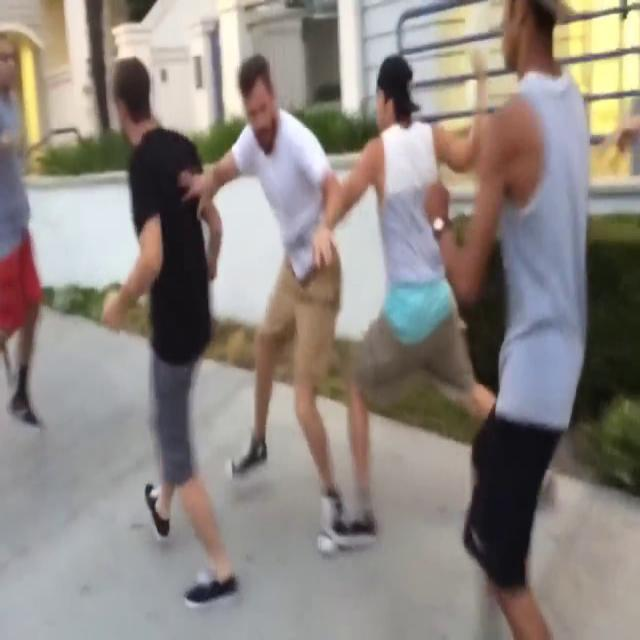Violence: (221, 49, 490, 396)
